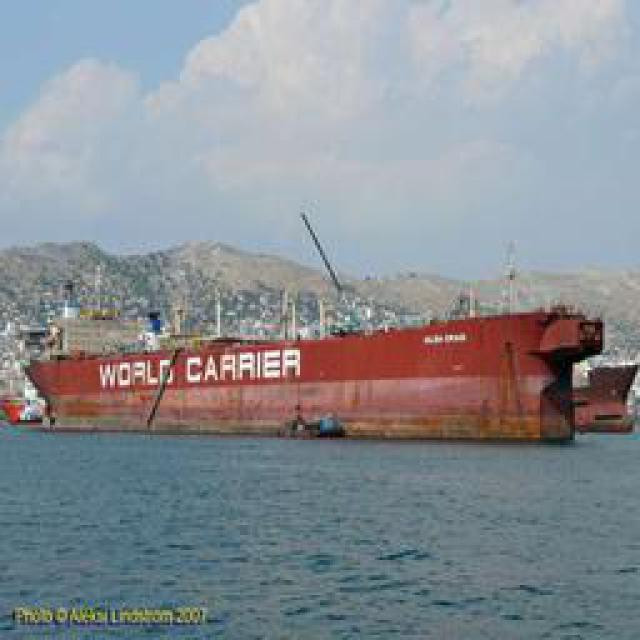Ship: (15, 287, 625, 447)
